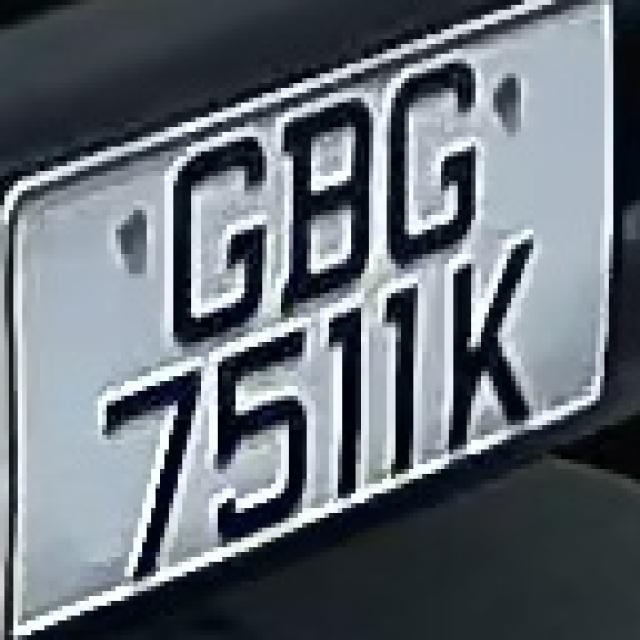1: (365, 283, 431, 508), (311, 317, 369, 518)
5: (204, 342, 316, 537)
7: (75, 366, 209, 582)
B: (254, 88, 382, 293)
G: (369, 44, 498, 259), (142, 127, 262, 352)
K: (440, 235, 542, 450)
